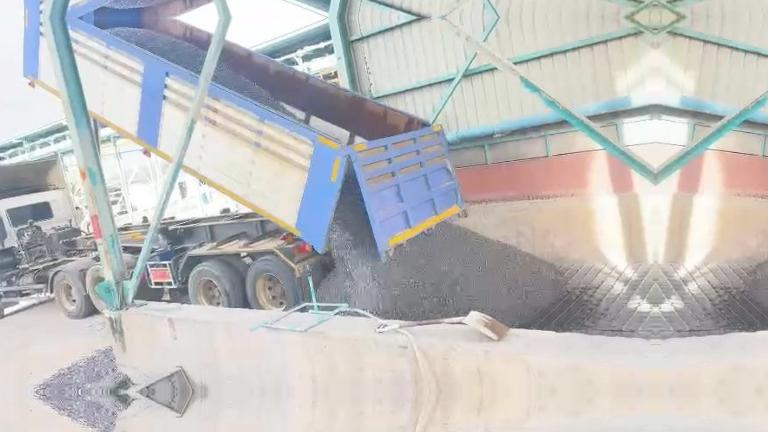gravel: (318, 169, 564, 326), (107, 27, 205, 73), (213, 62, 293, 116), (33, 347, 130, 390)
